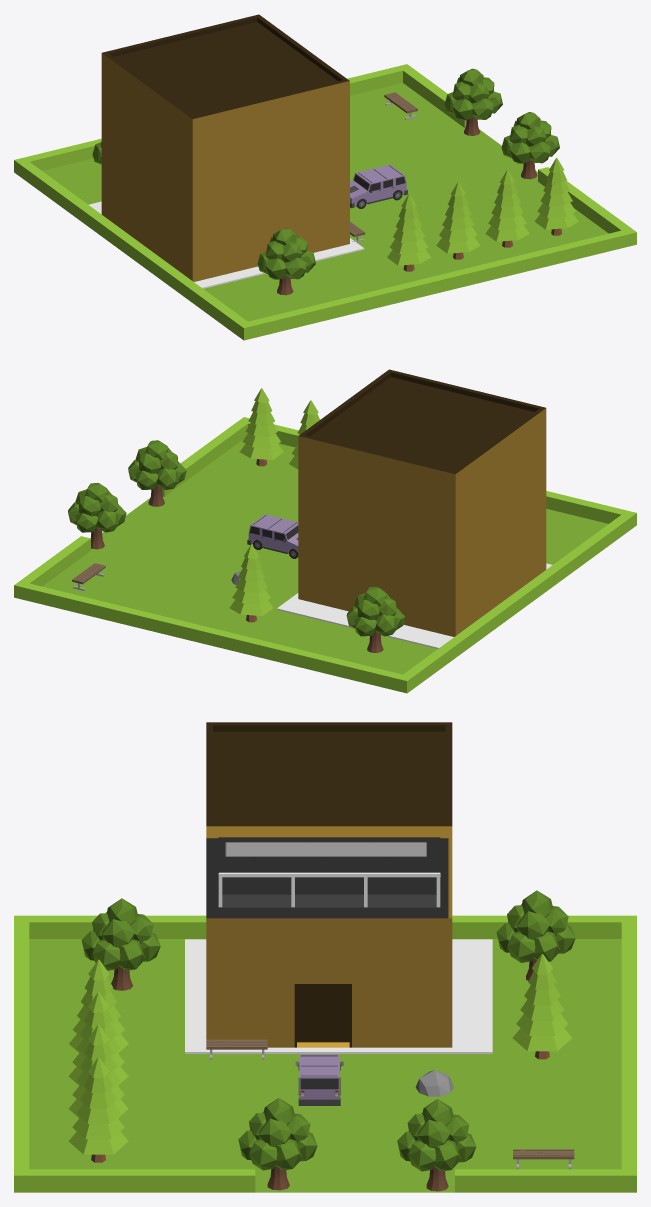
Rendered from house.gltf.
3 views of the same model, one above another, from view 1: azimuth 30°, elevation 25°; view 2: azimuth 150°, elevation 25°; view 3: azimuth 270°, elevation 25° (orthographic). The views are drawn at different scales.
Parts seen in each view (by area): view 1: Cube001_2, Cube001_3, Natures_Grass_Tile_Plane001, Natures_Grass_Tile_Plane003, Natures_Grass_Fence_Cube004, Natures_Grass_Tile_Plane010, Natures_Grass_Fence_Cube001, Natures_Big_Tree_Mesh003, Natures_Big_Tree_Mesh008, Natures_Big_Tree_Mesh001, Natures_Grass_Fence_Cube002, Natures_Fir_Tree_Cylinder001 (+8 smaller); view 2: Cube001_2, Natures_Grass_Tile_Plane003, Cube001_3, Natures_Grass_Tile_Plane001, Natures_Grass_Fence_Cube002, Natures_Grass_Tile_Plane002, Natures_Grass_Fence_Cube001, Natures_Big_Tree_Mesh002, Natures_Big_Tree_Mesh008, Natures_Big_Tree_Mesh003, Cube001, Natures_Grass_Tile_Plane010 (+7 smaller); view 3: Cube001_3, Natures_Grass_Tile_Plane003, Cube001_2, Natures_Grass_Tile_Plane001, Cube001_1, Natures_Grass_Tile_Plane010, Natures_Grass_Tile_Plane002, Cube001, Natures_Grass_Fence_Cube003, Natures_Grass_Fence_Cube001, Natures_Grass_Fence_Cube004, Natures_Big_Tree_Mesh008 (+14 smaller).
Boxes of the visible parts, bbox=[...] form: Cube001_2: bbox=[101, 53, 349, 281]; Cube001_3: bbox=[102, 14, 349, 119]; Natures_Grass_Tile_Plane001: bbox=[350, 161, 608, 278]; Natures_Grass_Tile_Plane003: bbox=[350, 83, 513, 186]; Natures_Grass_Fence_Cube004: bbox=[238, 228, 636, 340]; Natures_Grass_Tile_Plane010: bbox=[203, 234, 421, 321]; Natures_Grass_Fence_Cube001: bbox=[14, 160, 249, 337]; Natures_Big_Tree_Mesh003: bbox=[444, 68, 502, 135]; Natures_Big_Tree_Mesh008: bbox=[501, 112, 559, 179]; Natures_Big_Tree_Mesh001: bbox=[257, 228, 315, 295]; Natures_Grass_Fence_Cube002: bbox=[14, 64, 411, 170]; Natures_Fir_Tree_Cylinder001: bbox=[436, 182, 480, 259]; Cube001_2: bbox=[298, 408, 546, 636]; Natures_Grass_Tile_Plane003: bbox=[42, 514, 298, 631]; Cube001_3: bbox=[298, 369, 545, 474]; Natures_Grass_Tile_Plane001: bbox=[128, 438, 298, 553]; Natures_Grass_Fence_Cube002: bbox=[14, 581, 407, 693]; Natures_Grass_Tile_Plane002: bbox=[229, 581, 437, 674]; Natures_Grass_Fence_Cube001: bbox=[398, 512, 634, 692]; Natures_Big_Tree_Mesh002: bbox=[346, 586, 405, 652]; Natures_Big_Tree_Mesh008: bbox=[128, 440, 186, 506]; Natures_Big_Tree_Mesh003: bbox=[68, 483, 126, 549]; Cube001: bbox=[277, 563, 552, 648]; Natures_Grass_Tile_Plane010: bbox=[546, 508, 608, 564]; Cube001_3: bbox=[206, 722, 452, 1047]; Natures_Grass_Tile_Plane003: bbox=[329, 1062, 621, 1192]; Cube001_2: bbox=[206, 918, 452, 1047]; Natures_Grass_Tile_Plane001: bbox=[29, 1062, 329, 1192]; Cube001_1: bbox=[206, 826, 452, 1047]; Natures_Grass_Tile_Plane010: bbox=[29, 939, 328, 1062]; Natures_Grass_Tile_Plane002: bbox=[329, 939, 621, 1062]; Cube001: bbox=[185, 872, 492, 1053]; Natures_Grass_Fence_Cube003: bbox=[28, 1169, 255, 1192]; Natures_Grass_Fence_Cube001: bbox=[21, 915, 636, 938]; Natures_Grass_Fence_Cube004: bbox=[14, 915, 29, 1192]; Natures_Big_Tree_Mesh008: bbox=[238, 1098, 317, 1190].
Bounding box in the file's own units: 41.7 × 16.06 × 40.5.
15 materials, 12 textured.
